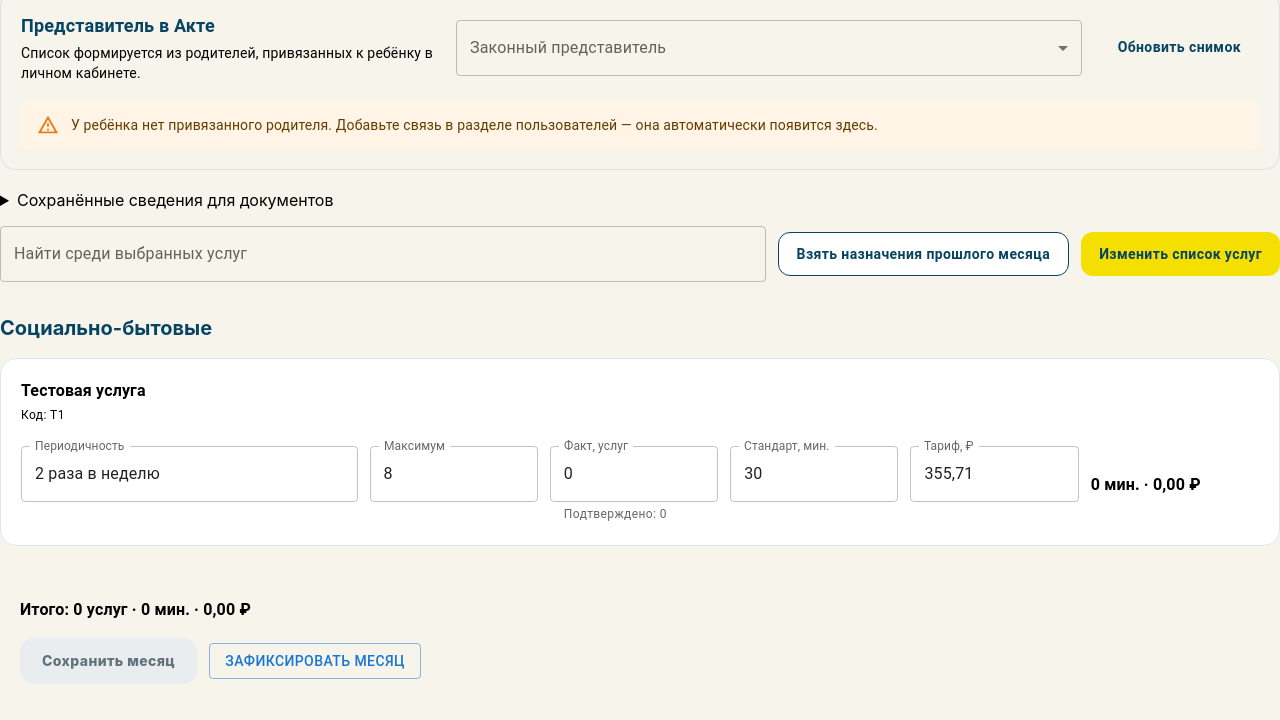
Test: finalize permits absent representative, locks edits, and reopens with fresh revision
(page scrolled)
Click the button "Зафиксировать месяц". click: point(315, 661)
box: [209,643,421,679]
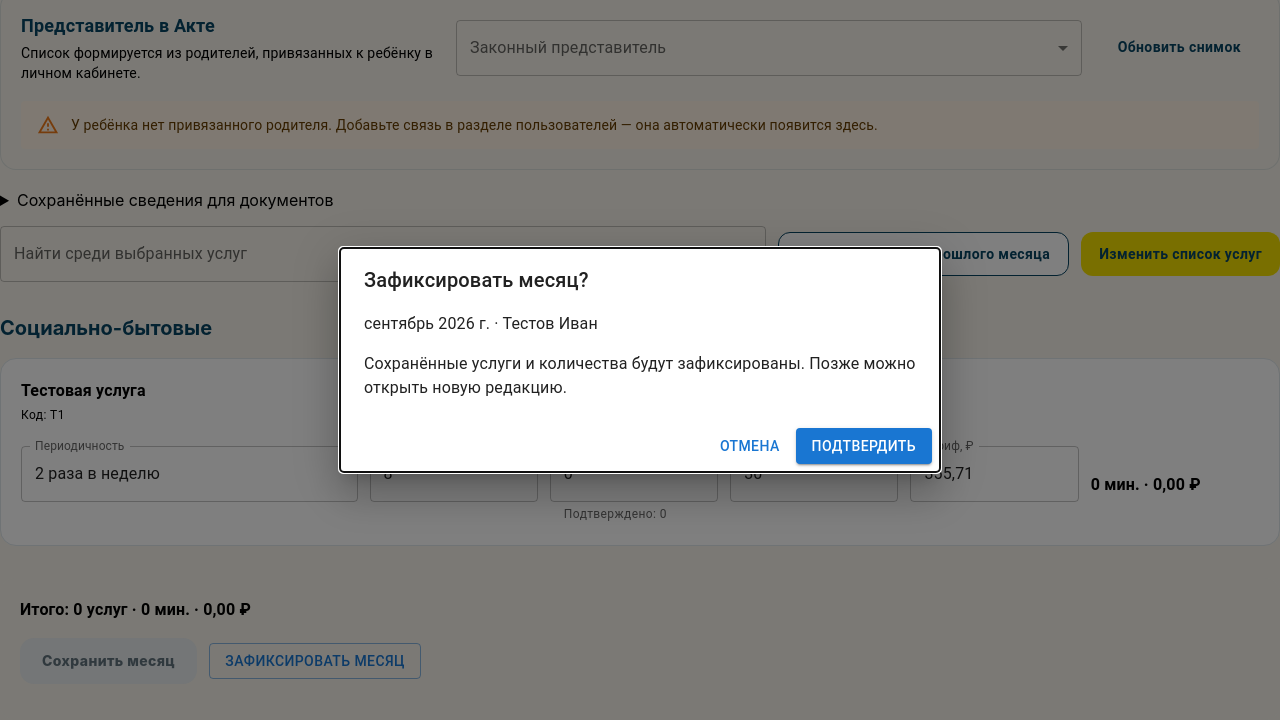
Click the button "Подтвердить". click: point(864, 446)
box: [796,428,932,464]
(page scrolled)
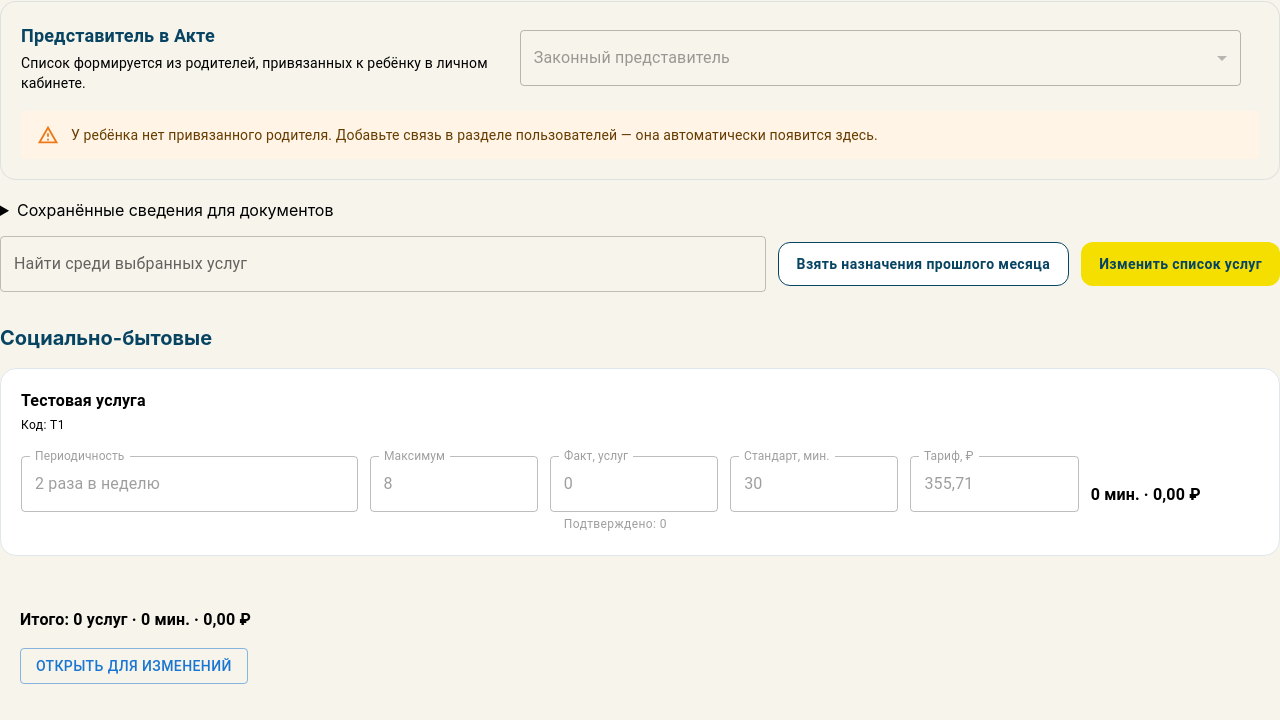
Check: the number field named "Фактически: Тестовая услуга" is disabled, box [550,456,718,512]
Click the button "Открыть для изменений". click: point(134, 666)
box: [20,648,248,684]
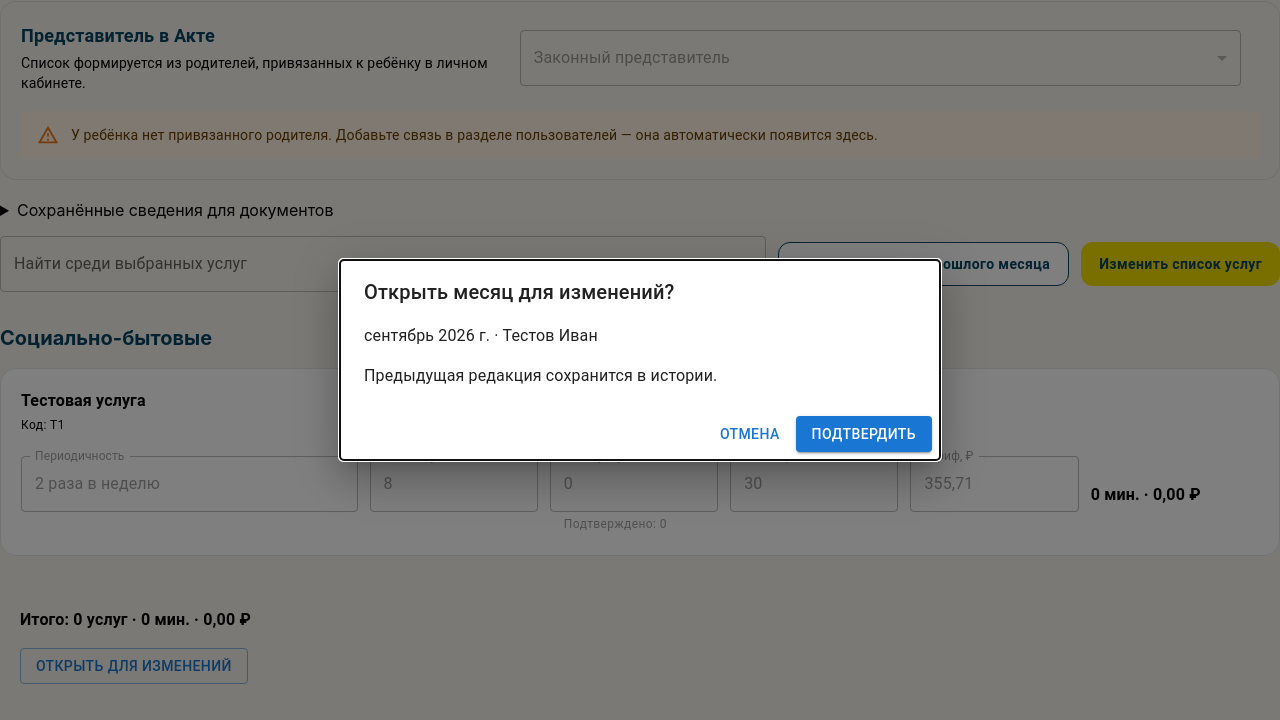
Click the button "Подтвердить". click: point(864, 434)
box: [796,416,932,452]
(page scrolled)
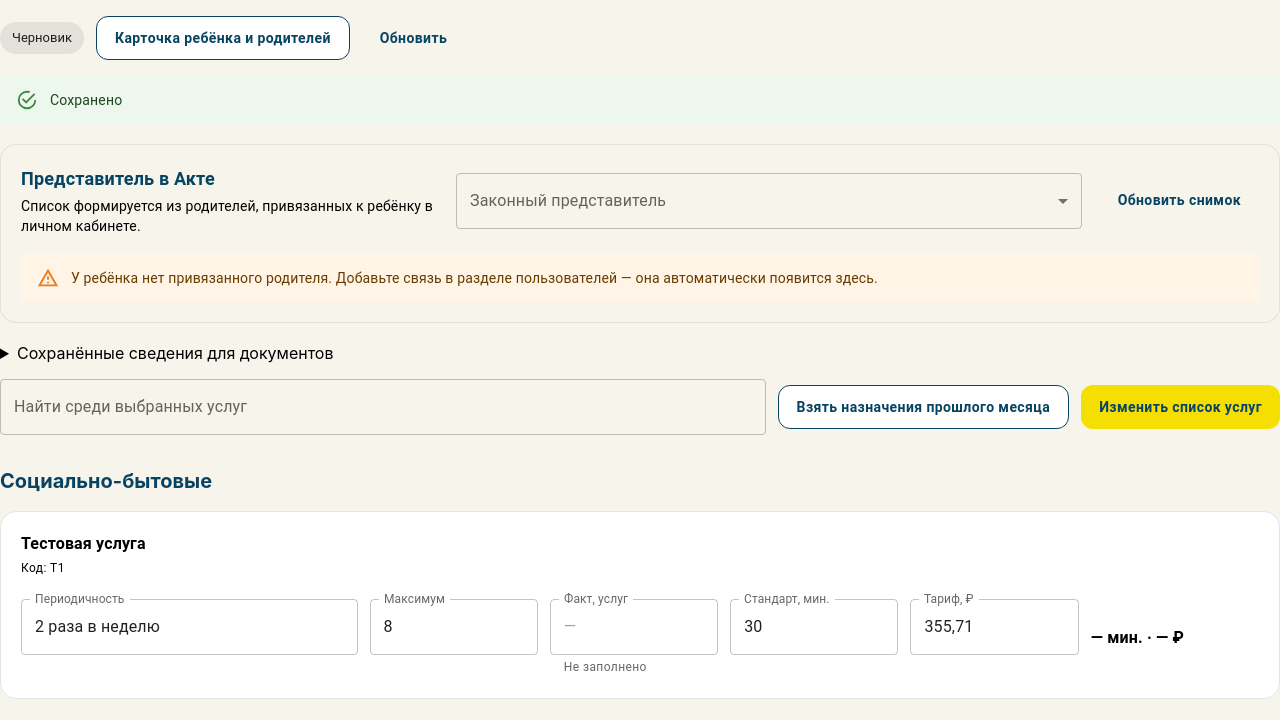
Check: the text "Черновик" is shown, box [12,30,72,45]
